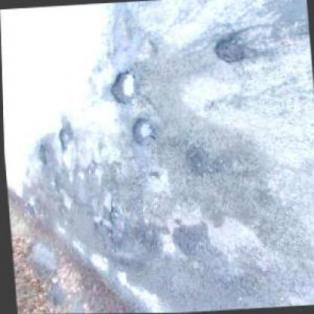Hueco: (168, 222, 206, 254), (105, 69, 136, 105), (182, 144, 210, 178), (211, 36, 244, 64), (126, 116, 156, 144), (131, 224, 156, 252), (55, 127, 70, 152), (35, 142, 49, 165), (97, 217, 110, 230), (106, 206, 118, 220)
